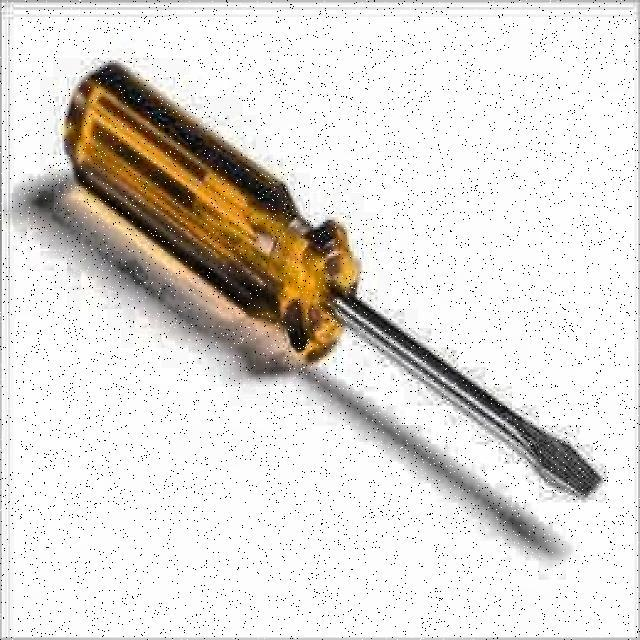screwdriver: (61, 60, 604, 503)
